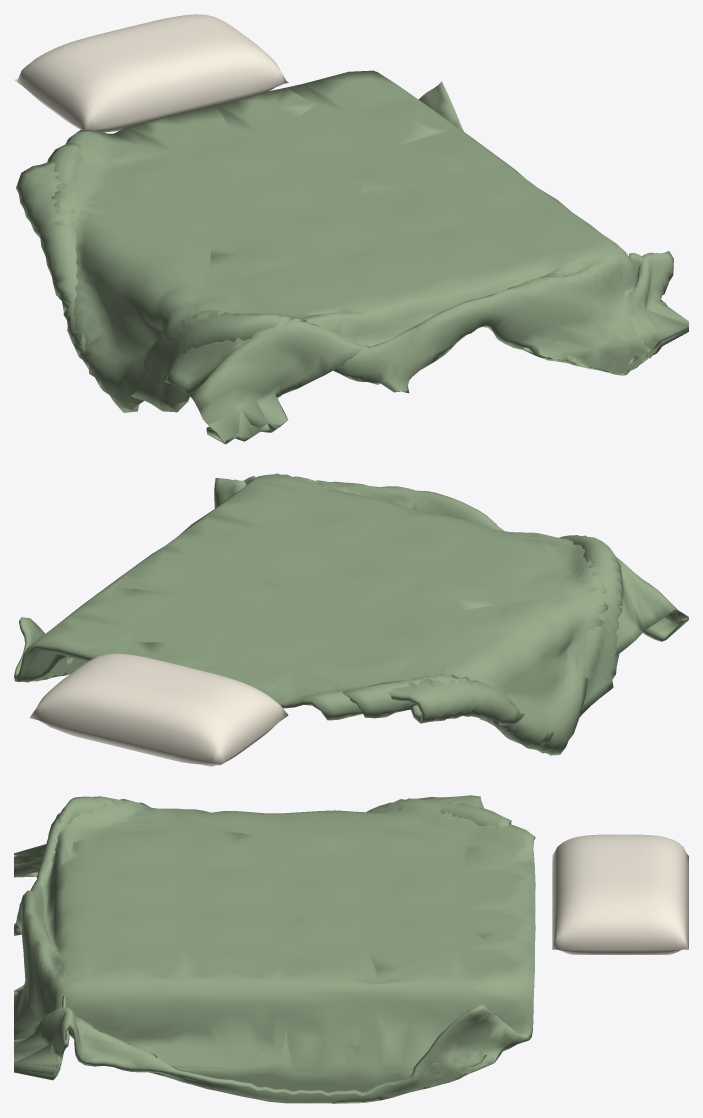
The model's file is bedding-empty.glb.
The picture shows the model from 3 angles, top to bottom: view 1: azimuth 30°, elevation 25°; view 2: azimuth 150°, elevation 25°; view 3: azimuth 270°, elevation 25°; orthographic projection. The views are drawn at different scales.
Visible parts, largest first — view 1: sleep_duvet_empty, sleep_pillow_empty; view 2: sleep_duvet_empty, sleep_pillow_empty; view 3: sleep_duvet_empty, sleep_pillow_empty.
Boxes of the visible parts, bbox=[...] form: sleep_duvet_empty: bbox=[16, 70, 688, 444]; sleep_pillow_empty: bbox=[14, 14, 288, 132]; sleep_duvet_empty: bbox=[14, 473, 688, 755]; sleep_pillow_empty: bbox=[29, 653, 288, 766]; sleep_duvet_empty: bbox=[14, 795, 535, 1103]; sleep_pillow_empty: bbox=[552, 834, 688, 954].
Bounding box in the file's own units: 1.72 × 0.5779 × 2.17.
